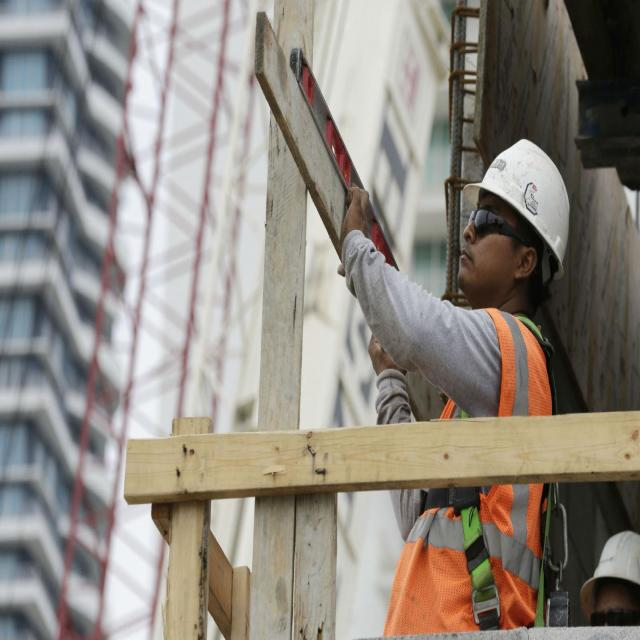Reflective-Jacket: (384, 296, 561, 636)
Safety-Helmet: (461, 131, 575, 274), (579, 524, 640, 608)
